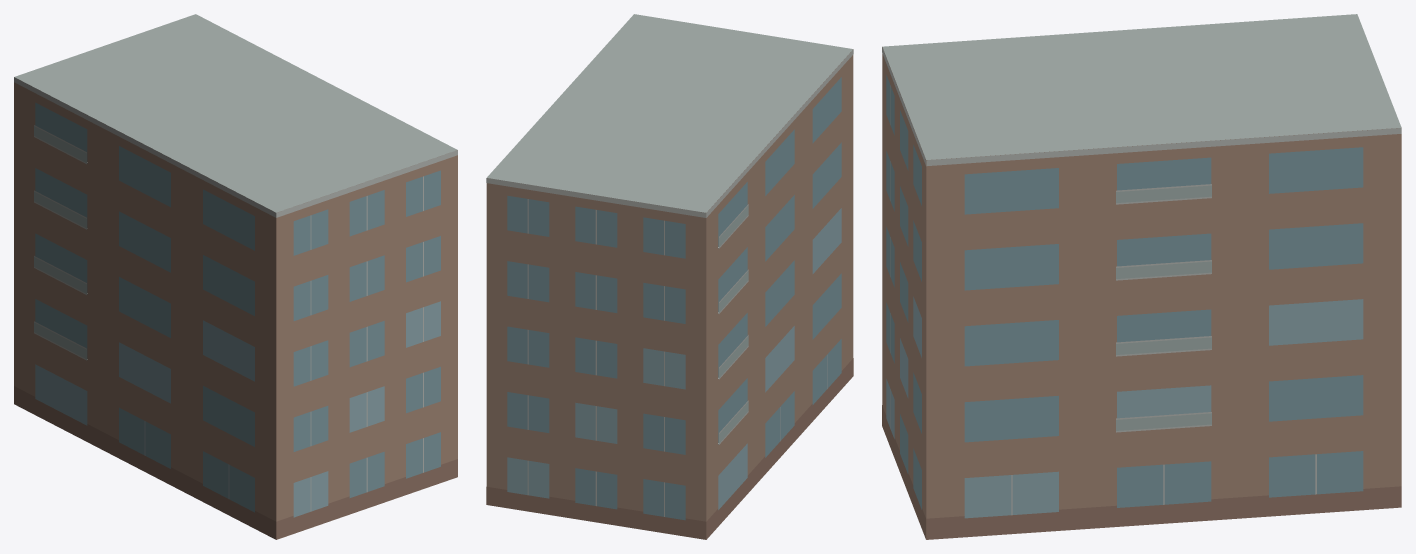
File: survey-upis-32567654.glb
The picture shows the model from 3 angles, left to right: view 1: azimuth 30°, elevation 25°; view 2: azimuth 150°, elevation 25°; view 3: azimuth 270°, elevation 25°; orthographic projection. The views are drawn at different scales.
Visible parts, largest first — view 1: survey-upis-32567654.tmp; view 2: survey-upis-32567654.tmp; view 3: survey-upis-32567654.tmp.
Part boxes in pixels (<box>): survey-upis-32567654.tmp: <box>14,14,457,539</box>; survey-upis-32567654.tmp: <box>486,14,853,539</box>; survey-upis-32567654.tmp: <box>882,14,1401,539</box>.
Bounding box in the file's own units: 12.6 × 15.25 × 18.91.
